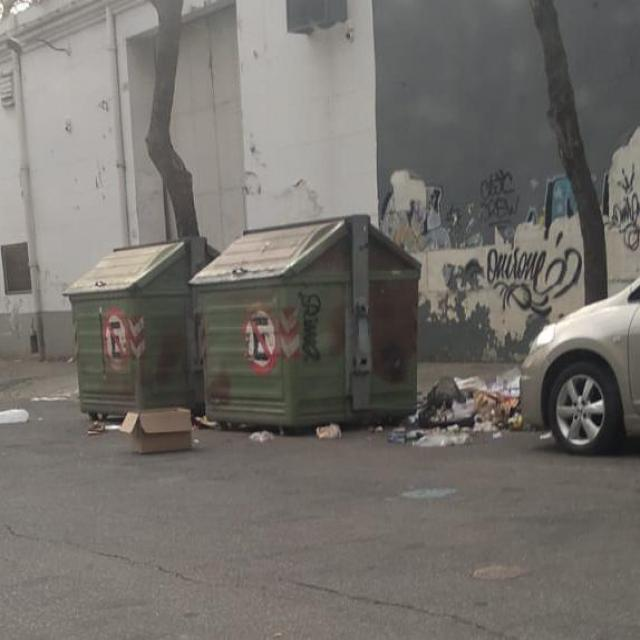garbage: (417, 360, 530, 468), (99, 400, 240, 476), (294, 413, 354, 448), (0, 379, 37, 428), (242, 421, 291, 446)
